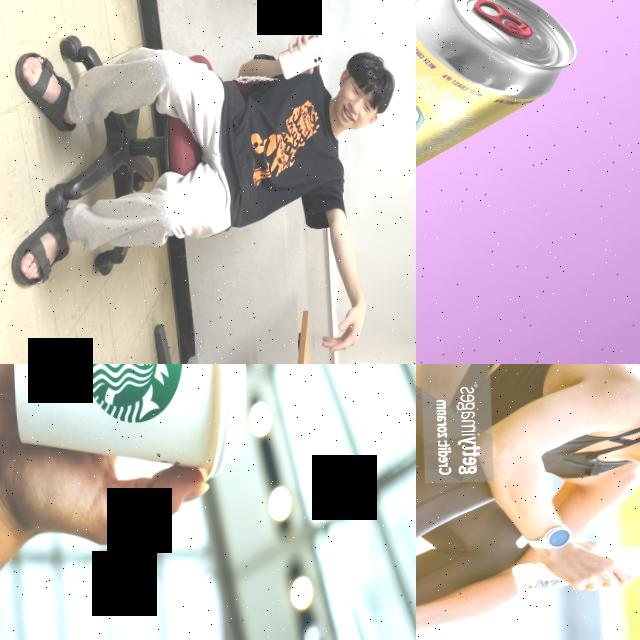bottle: (508, 543, 640, 595)
can: (416, 0, 584, 235)
cup: (7, 364, 249, 489)
